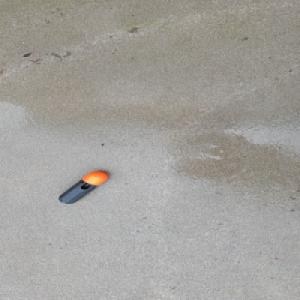PlasticPart: (58, 170, 109, 204)
